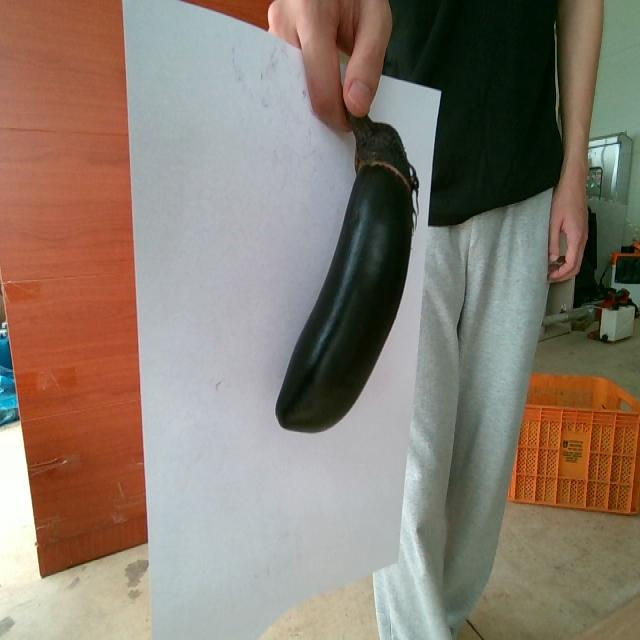Egg plant: (276, 113, 418, 431)
